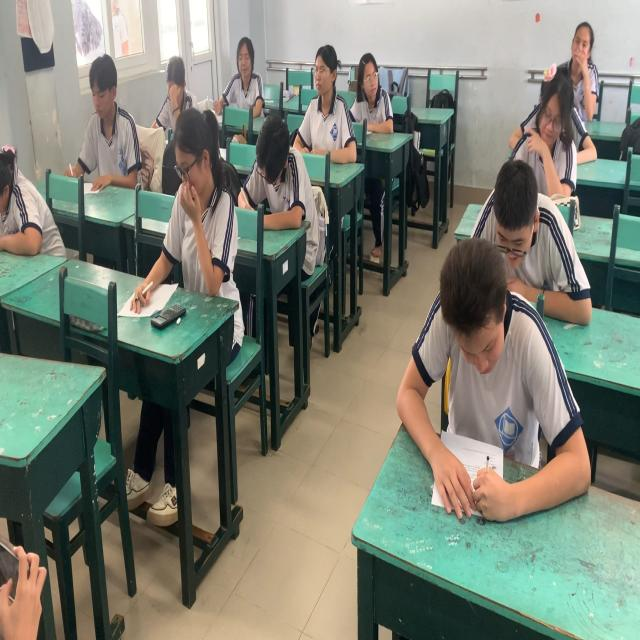cheating: (353, 50, 396, 144)
not_cheating: (404, 250, 580, 533), (472, 171, 588, 360), (166, 112, 236, 320), (70, 40, 150, 198), (295, 39, 359, 167), (246, 119, 306, 230), (530, 84, 566, 208), (569, 8, 600, 136), (225, 36, 264, 126), (157, 56, 207, 106)
